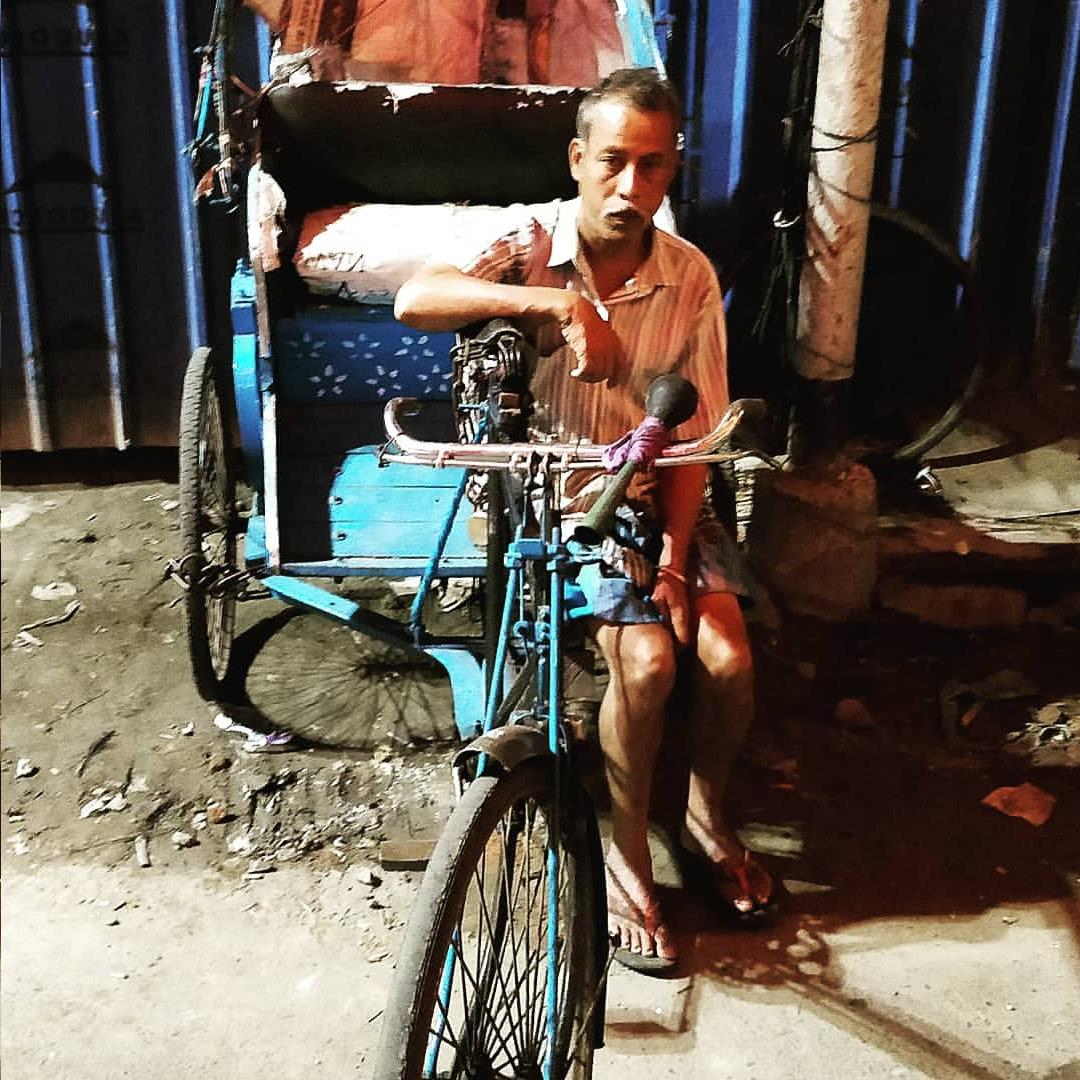Rickshaw: (166, 1, 771, 958)
